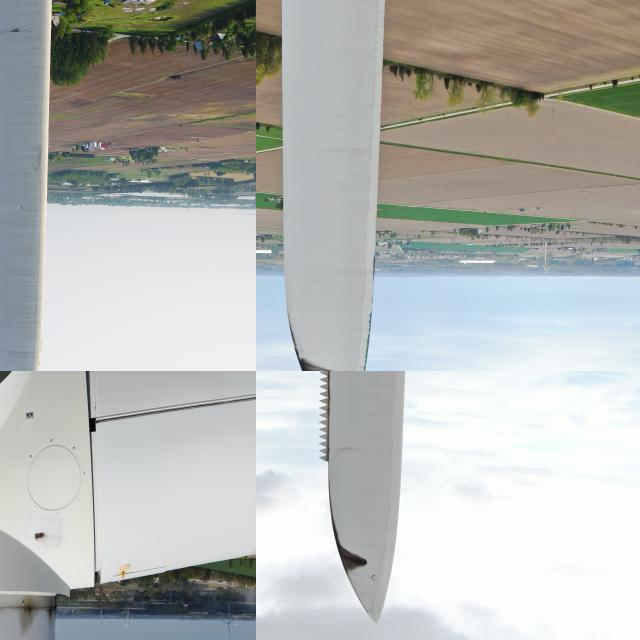damage: (286, 313, 327, 370), (10, 595, 64, 635), (328, 530, 368, 576), (360, 304, 373, 370), (368, 252, 376, 284), (329, 367, 336, 370)
